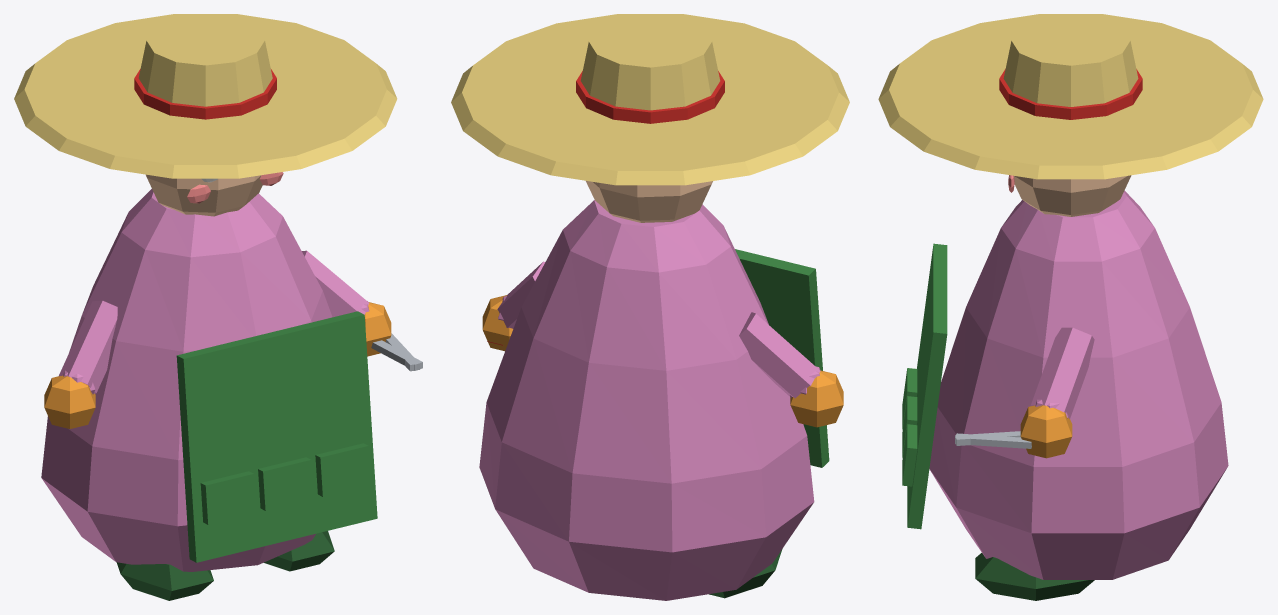
The model's file is npc_dona_hortensia.glb.
3 renders of one model, left to right at view 1: azimuth 30°, elevation 25°; view 2: azimuth 150°, elevation 25°; view 3: azimuth 270°, elevation 25°, orthographic. The views are drawn at different scales.
Visible parts, largest first — view 1: body_hortensia_dress, hat_hortensia_straw, body_hortensia_apron, arms_hortensia_dress, legs_hortensia_boots, arms_hortensia_gloves, head_hortensia_skin, hat_hortensia_band, tool_hortensia_shears; view 2: body_hortensia_dress, hat_hortensia_straw, body_hortensia_apron, arms_hortensia_dress, head_hortensia_skin, arms_hortensia_gloves, hat_hortensia_band, legs_hortensia_boots; view 3: body_hortensia_dress, hat_hortensia_straw, body_hortensia_apron, head_hortensia_skin, arms_hortensia_dress, legs_hortensia_boots, arms_hortensia_gloves, hat_hortensia_band, tool_hortensia_shears.
Part boxes in pixels (bbox=[...]): body_hortensia_dress: bbox=[41, 189, 332, 571]; hat_hortensia_straw: bbox=[14, 14, 397, 178]; body_hortensia_apron: bbox=[176, 311, 377, 562]; arms_hortensia_dress: bbox=[59, 250, 369, 394]; legs_hortensia_boots: bbox=[116, 531, 334, 600]; arms_hortensia_gloves: bbox=[44, 302, 391, 428]; head_hortensia_skin: bbox=[146, 174, 262, 216]; hat_hortensia_band: bbox=[134, 69, 276, 119]; tool_hortensia_shears: bbox=[371, 333, 422, 371]; body_hortensia_dress: bbox=[479, 200, 814, 600]; hat_hortensia_straw: bbox=[451, 14, 849, 185]; body_hortensia_apron: bbox=[735, 249, 829, 467]; arms_hortensia_dress: bbox=[497, 261, 820, 398]; head_hortensia_skin: bbox=[586, 181, 712, 222]; arms_hortensia_gloves: bbox=[482, 295, 843, 427]; hat_hortensia_band: bbox=[576, 71, 724, 123]; legs_hortensia_boots: bbox=[709, 549, 782, 598]; body_hortensia_dress: bbox=[929, 190, 1228, 579]; hat_hortensia_straw: bbox=[878, 14, 1263, 179]; body_hortensia_apron: bbox=[902, 243, 947, 529]; head_hortensia_skin: bbox=[1014, 175, 1131, 216]; arms_hortensia_dress: bbox=[1030, 327, 1094, 419]; legs_hortensia_boots: bbox=[975, 553, 1094, 600]; arms_hortensia_gloves: bbox=[1020, 405, 1072, 458]; hat_hortensia_band: bbox=[999, 69, 1142, 119]; tool_hortensia_shears: bbox=[955, 431, 1031, 448].
Size of the model in its own units: 1.15 by 1.65 by 1.1.
